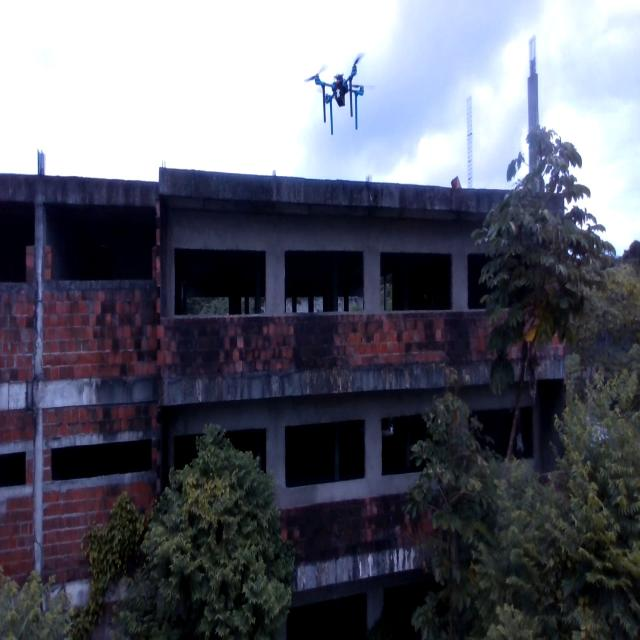-uav-: (294, 43, 378, 145)
